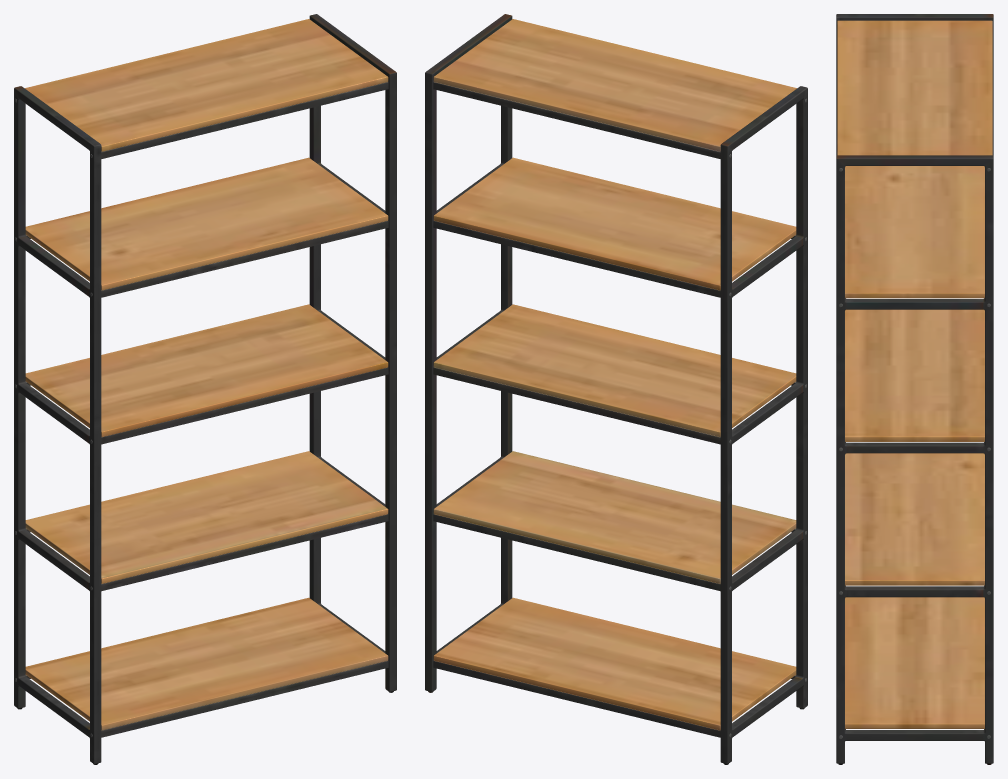
Rendered from steel_shelves.glb.
The picture shows the model from 3 angles, left to right: view 1: azimuth 30°, elevation 25°; view 2: azimuth 150°, elevation 25°; view 3: azimuth 270°, elevation 25°; orthographic projection. The views are drawn at different scales.
Parts seen in each view (by area): view 1: steel_frame_shelves_01; view 2: steel_frame_shelves_01; view 3: steel_frame_shelves_01.
Part boxes in pixels (x1=…): steel_frame_shelves_01: x1=14, y1=14, x2=396, y2=764; steel_frame_shelves_01: x1=425, y1=14, x2=807, y2=764; steel_frame_shelves_01: x1=836, y1=14, x2=993, y2=764.
Size of the model in its own units: 10.97 by 21.41 by 5.02.
Materials: 1 (1 with a texture image).
